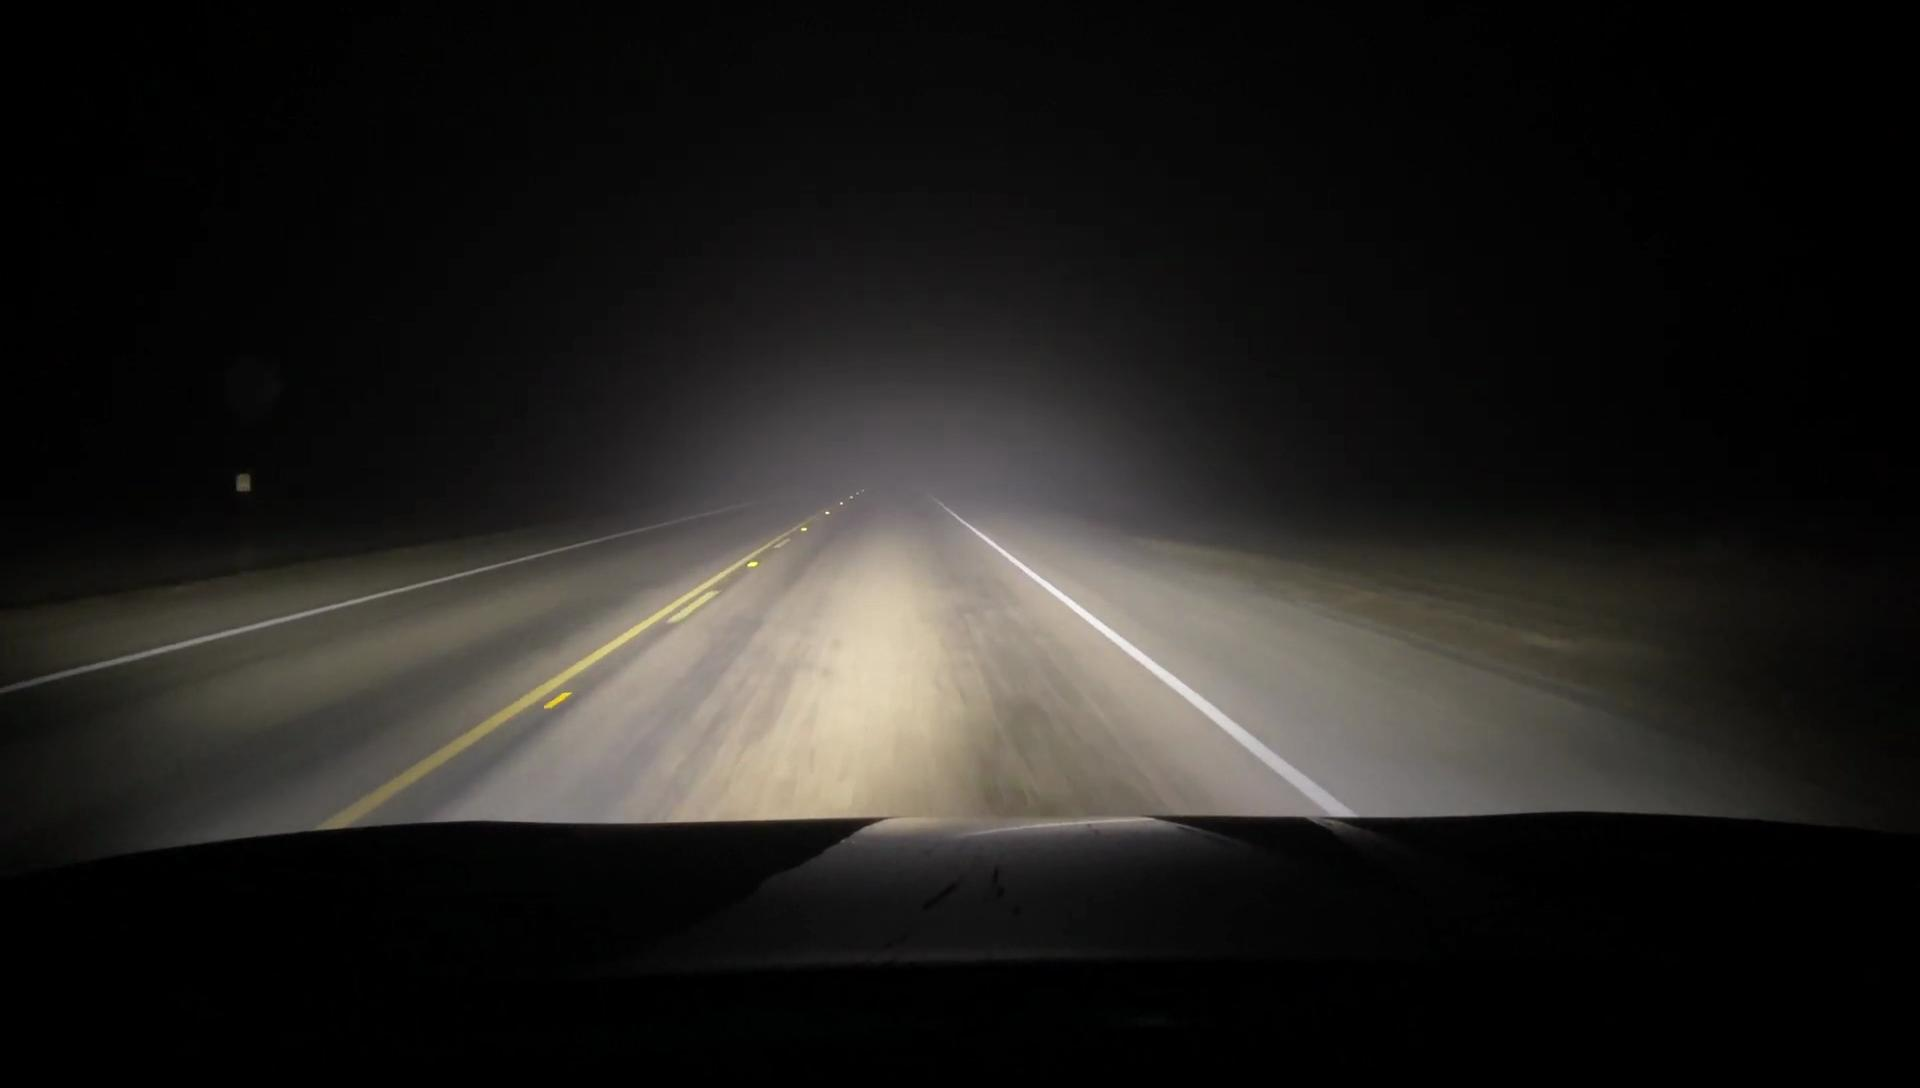road-lanes: (439, 481, 1313, 806)
